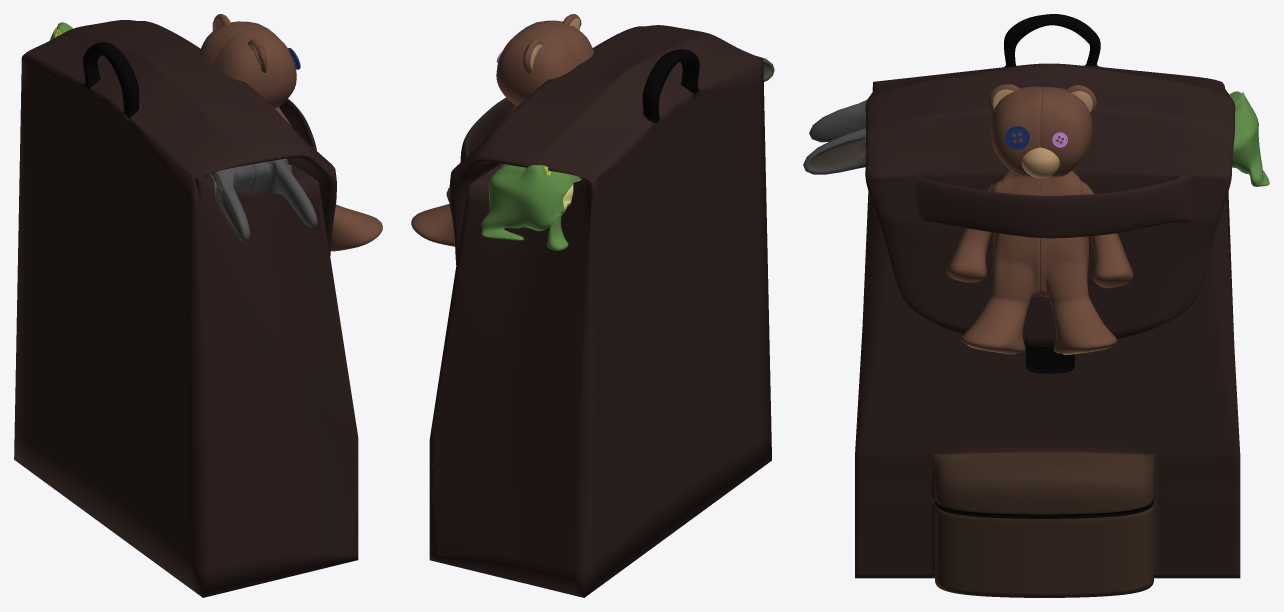
File: backpack.fbx
3 renders of one model, left to right at view 1: azimuth 30°, elevation 25°; view 2: azimuth 150°, elevation 25°; view 3: azimuth 270°, elevation 25°, orthographic. The views are drawn at different scales.
Visible parts, largest first — view 1: Sac à dos, Ours Sac, Lapin Sac; view 2: Sac à dos, Ours Sac, Frog Sac; view 3: Sac à dos, Ours Sac, Lapin Sac, Frog Sac.
Part boxes in pixels (x1,y1,x2,y2): Sac à dos: [14, 20, 358, 597]; Ours Sac: [199, 14, 382, 251]; Lapin Sac: [202, 158, 317, 241]; Sac à dos: [429, 25, 771, 597]; Ours Sac: [411, 14, 593, 246]; Frog Sac: [481, 164, 581, 250]; Sac à dos: [855, 14, 1240, 597]; Ours Sac: [947, 84, 1133, 354]; Lapin Sac: [803, 99, 867, 174]; Frog Sac: [1229, 90, 1269, 186].
Size of the model in its own units: 193 by 357 by 310.
